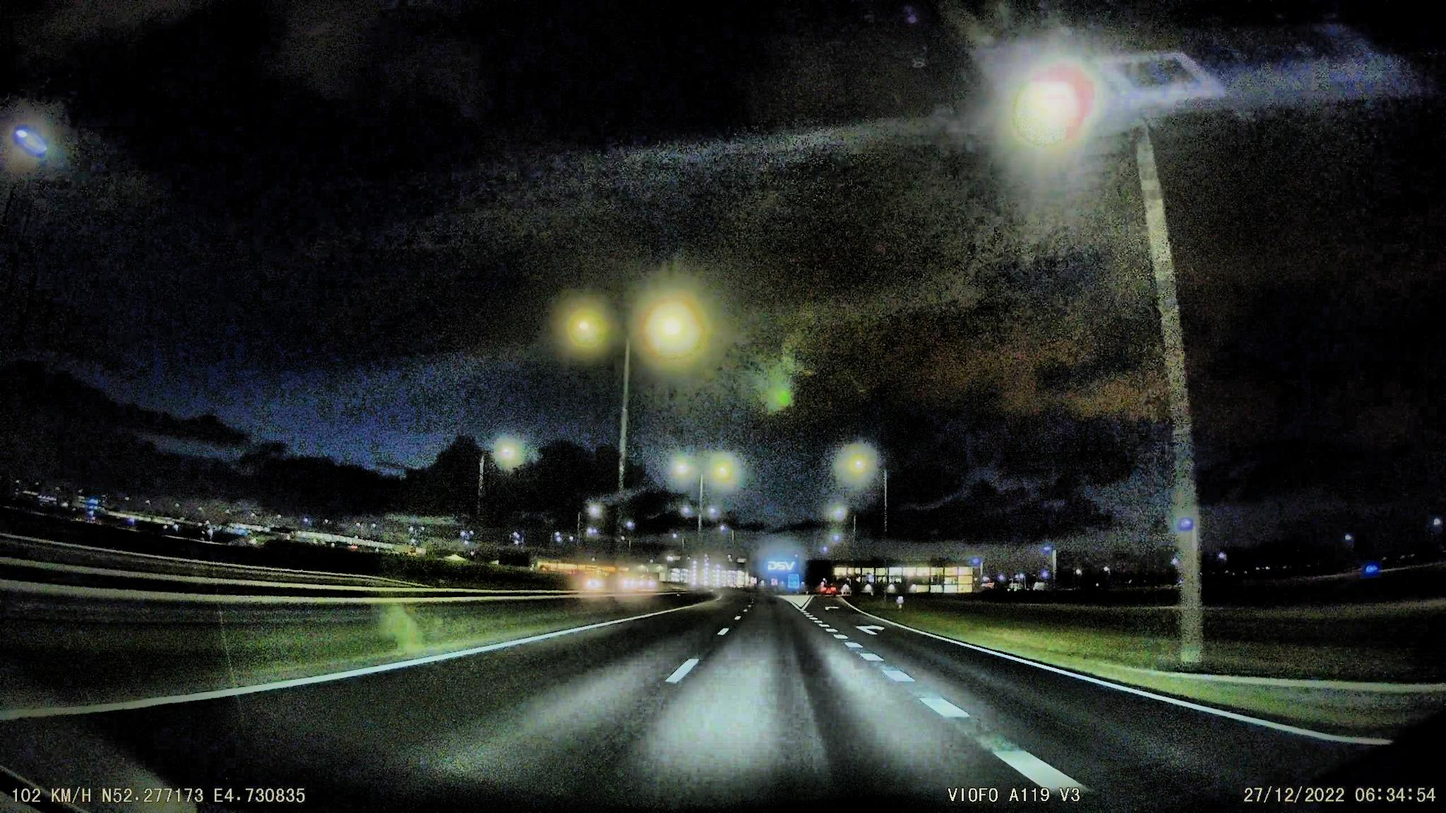Roads: (0, 595, 1386, 813)
